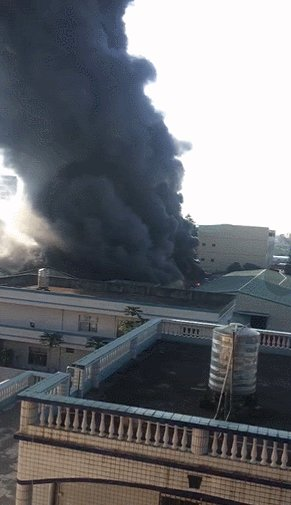smoke: (10, 11, 203, 283)
